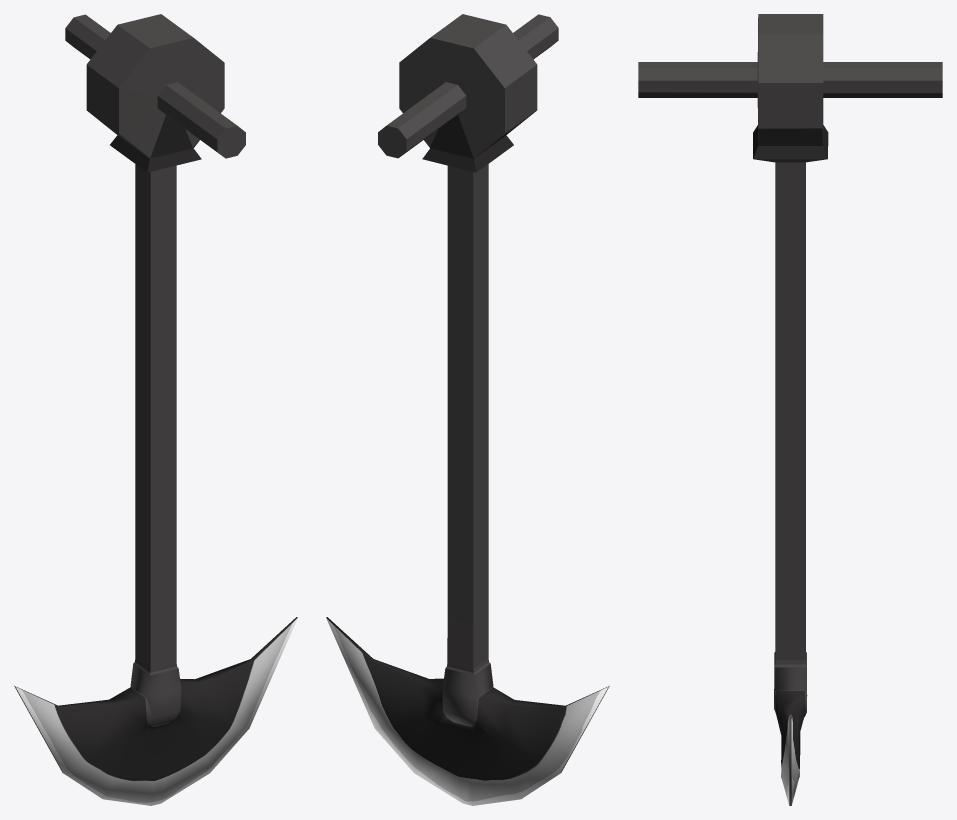
Rendered from Blade_Pendelum_Lower_Floor_Unwrapped.FBX.
The picture shows the model from 3 angles, left to right: view 1: azimuth 30°, elevation 25°; view 2: azimuth 150°, elevation 25°; view 3: azimuth 270°, elevation 25°; orthographic projection.
Parts seen in each view (by area): view 1: Blade_Pendelum_Lower_Floor; view 2: Blade_Pendelum_Lower_Floor; view 3: Blade_Pendelum_Lower_Floor.
Part boxes in pixels (x1,y1,x2,y2): Blade_Pendelum_Lower_Floor: (14,14,297,805); Blade_Pendelum_Lower_Floor: (326,14,609,805); Blade_Pendelum_Lower_Floor: (638,14,942,805).
Size of the model in its own units: 1.53 by 3.99 by 1.42.
